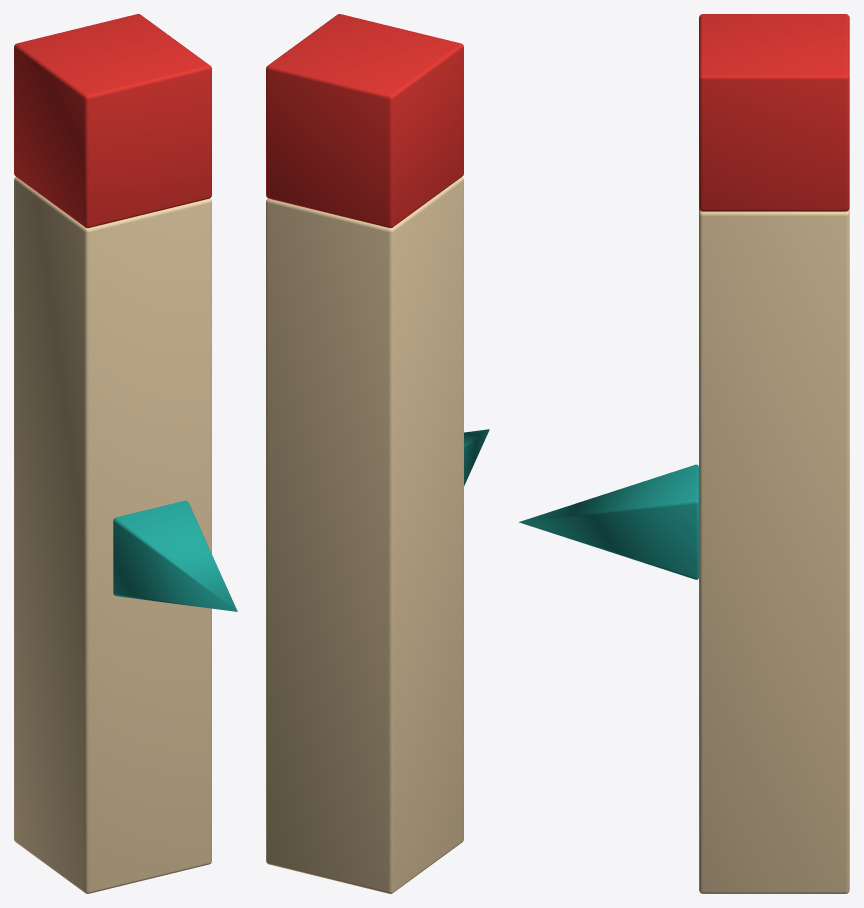
The model's file is ScaleTest.glb.
The picture shows the model from 3 angles, left to right: view 1: azimuth 30°, elevation 25°; view 2: azimuth 150°, elevation 25°; view 3: azimuth 270°, elevation 25°; orthographic projection. The views are drawn at different scales.
Visible parts, largest first — view 1: Post_1x1x5, Cube_1, Arrow_Front; view 2: Post_1x1x5, Cube_1, Arrow_Front; view 3: Post_1x1x5, Cube_1, Arrow_Front.
Boxes of the visible parts, x1=… form: Post_1x1x5: x1=14, y1=177, x2=211, y2=893; Cube_1: x1=14, y1=14, x2=211, y2=228; Arrow_Front: x1=113, y1=500, x2=237, y2=611; Post_1x1x5: x1=266, y1=177, x2=463, y2=893; Cube_1: x1=266, y1=14, x2=463, y2=227; Arrow_Front: x1=464, y1=429, x2=489, y2=485; Post_1x1x5: x1=699, y1=208, x2=849, y2=893; Cube_1: x1=699, y1=14, x2=849, y2=211; Arrow_Front: x1=519, y1=464, x2=698, y2=579.
Size of the model in its own units: 1 by 6 by 2.2.
